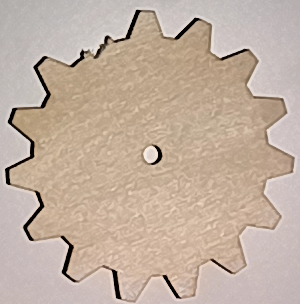Missing: (65, 20, 120, 61)
